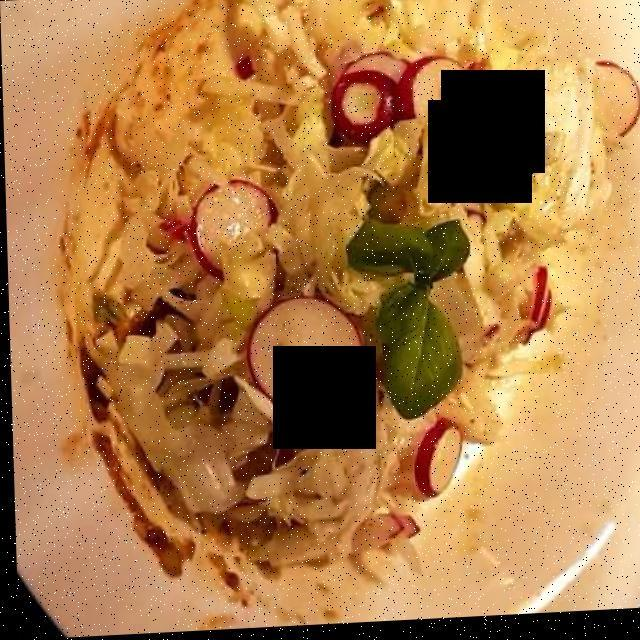cake: (70, 0, 616, 570)
salad: (98, 3, 611, 564)
